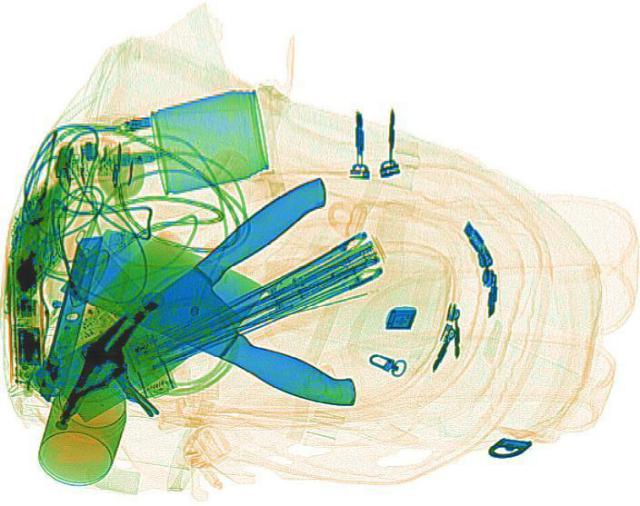Knife: (14, 172, 388, 422), (50, 218, 402, 414)
